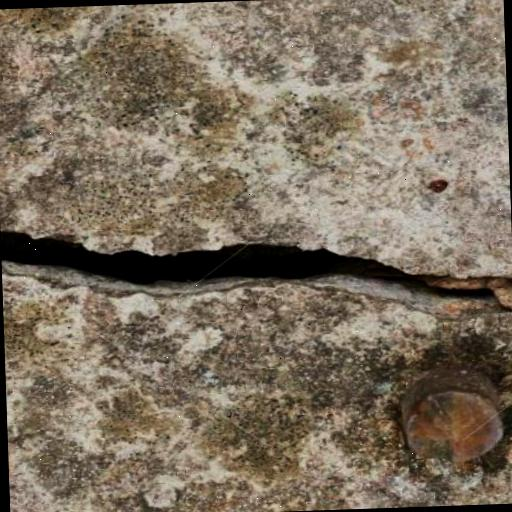spalling: (0, 225, 511, 314)
